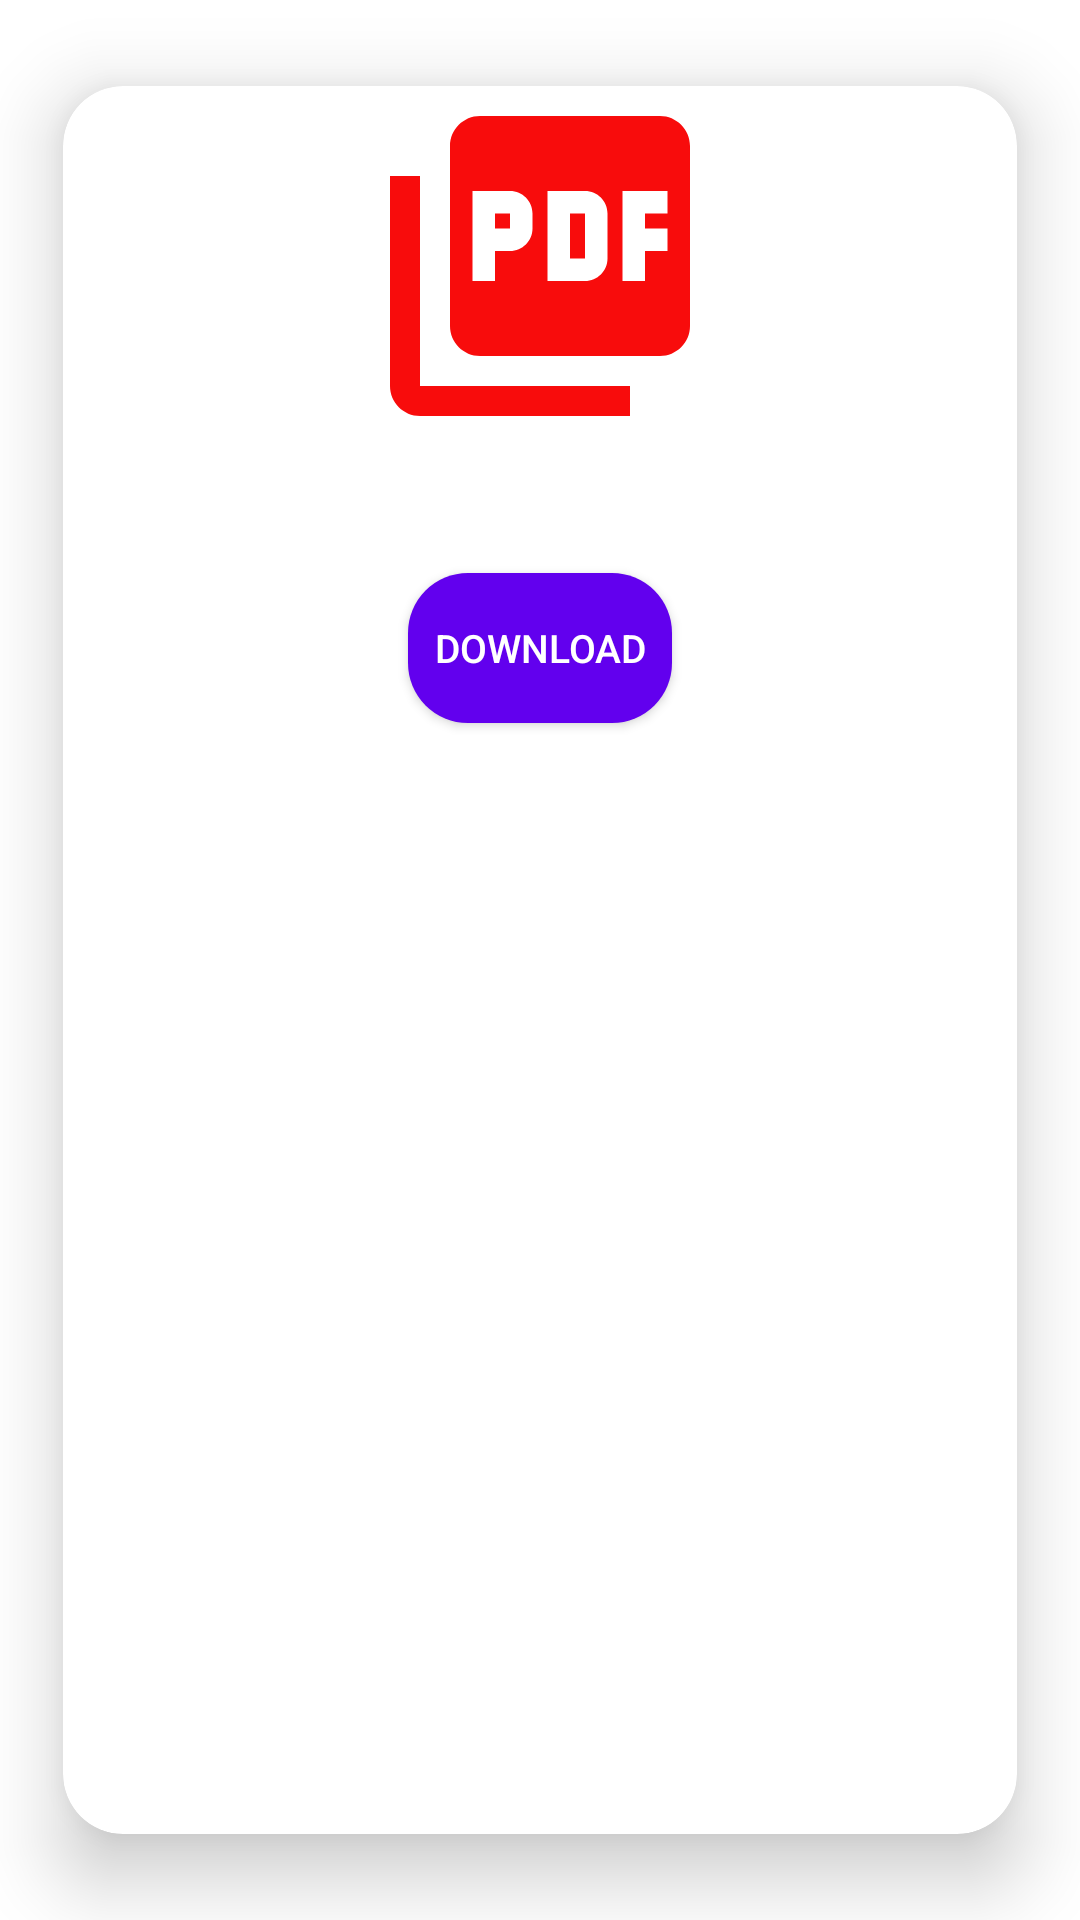

Named icons in this screenshot (1080 × 1920) and their bounding boxes, {"left": x1, "top": y1, "right": x2, "bottom": y2}:
picture as pdf: {"left": 390, "top": 116, "right": 690, "bottom": 416}
